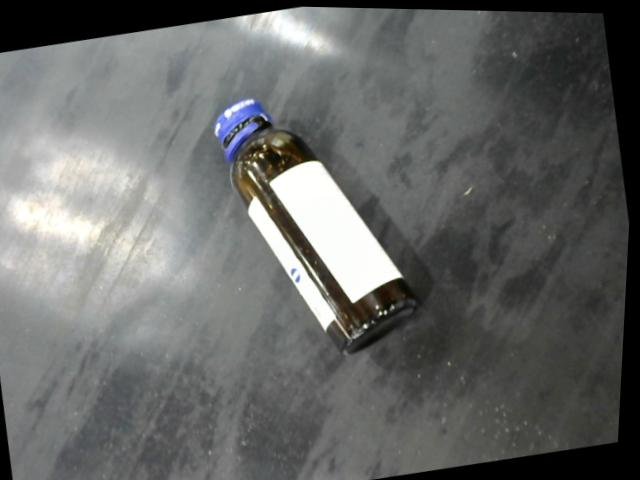glass: (201, 71, 438, 375)
